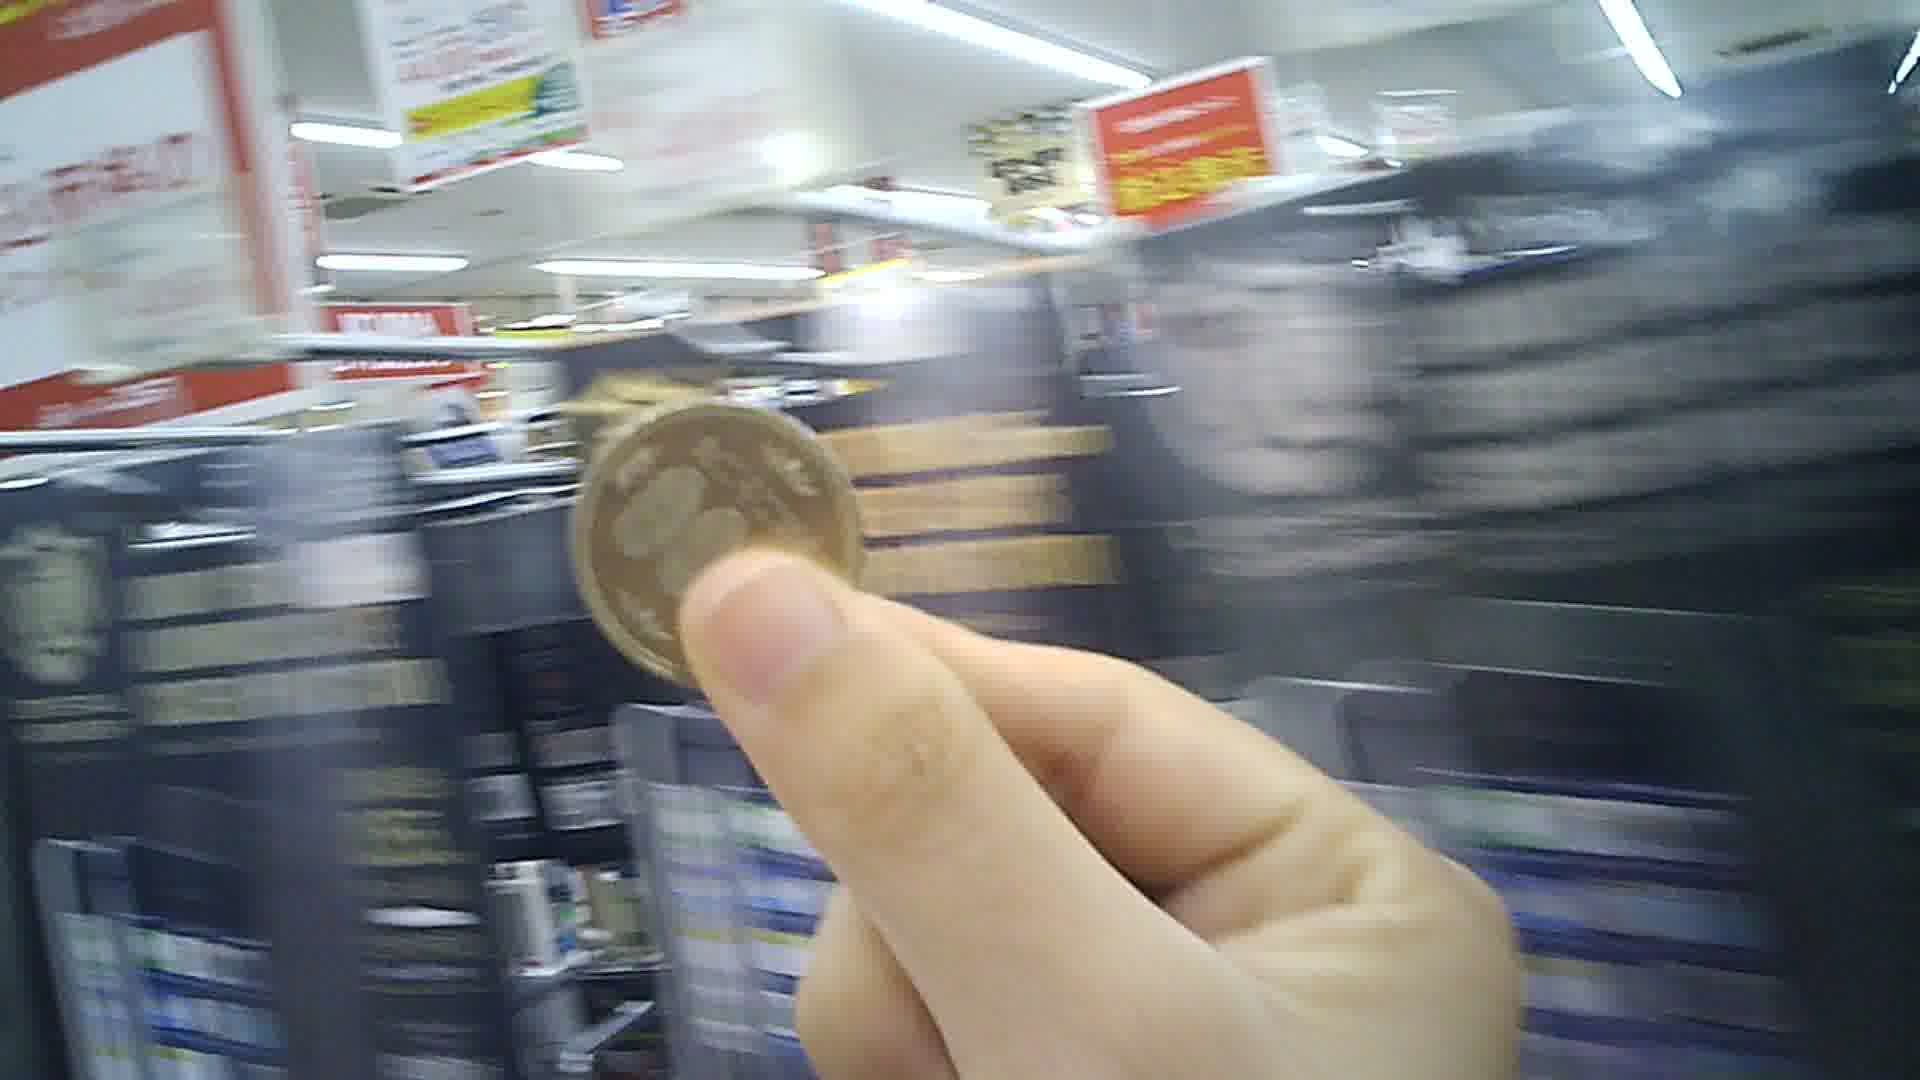500 Yen: (570, 407, 884, 694)
